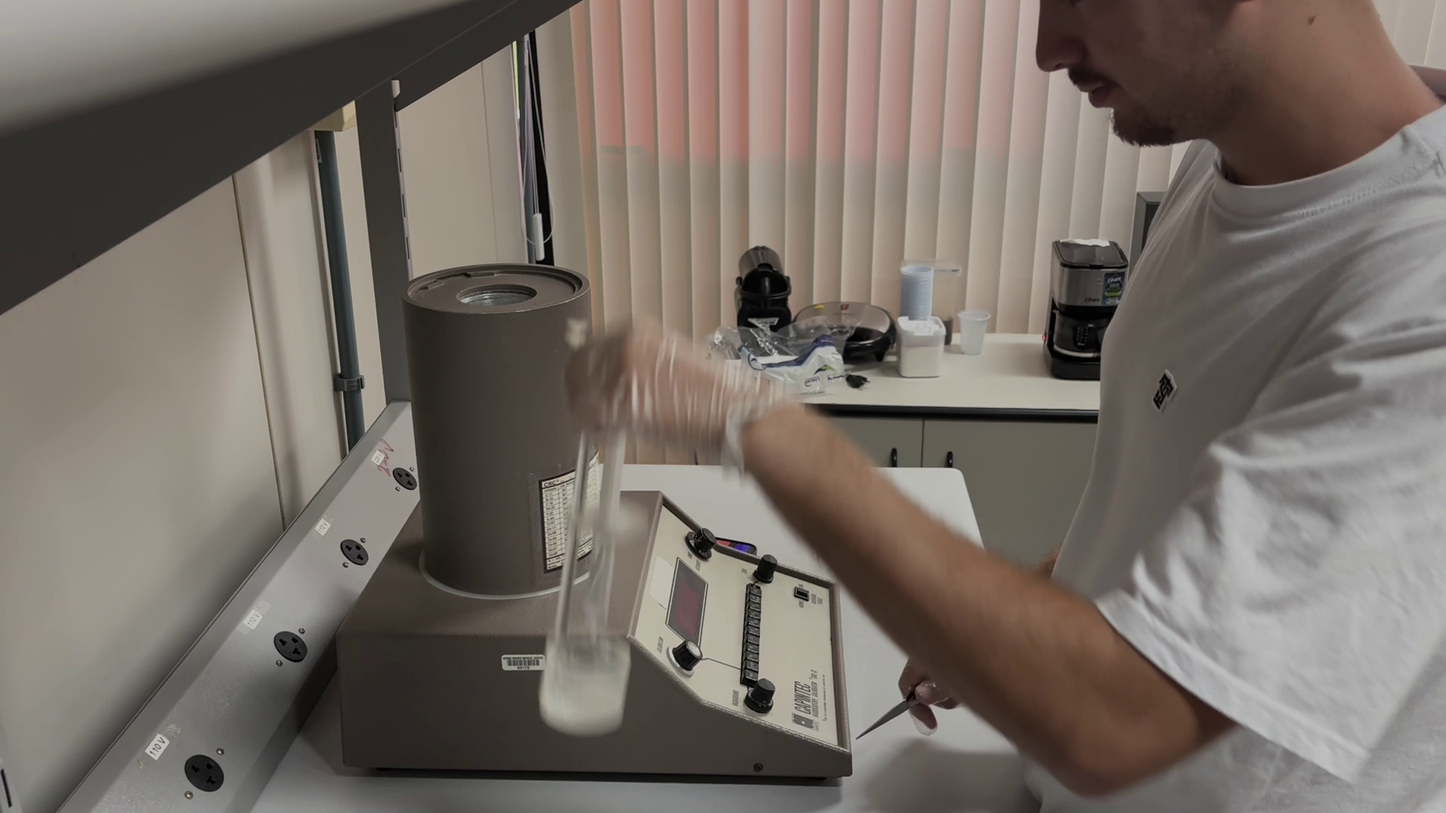Ativimetro: (399, 247, 610, 586)
Com_Luva: (538, 315, 636, 736), (565, 312, 793, 472)
